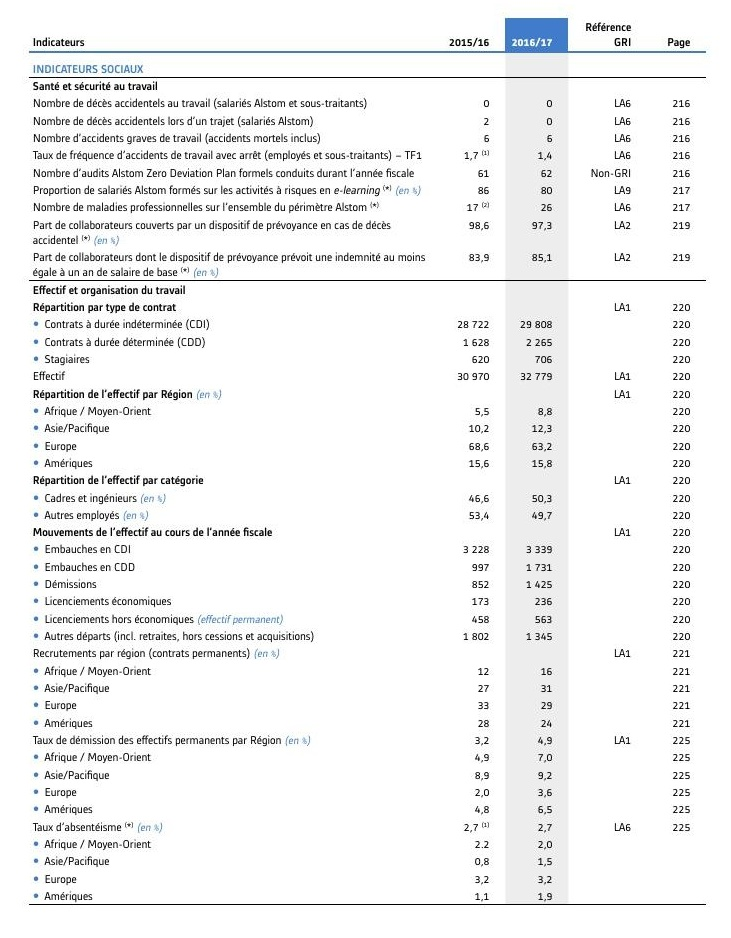table: (0, 0, 731, 938)
